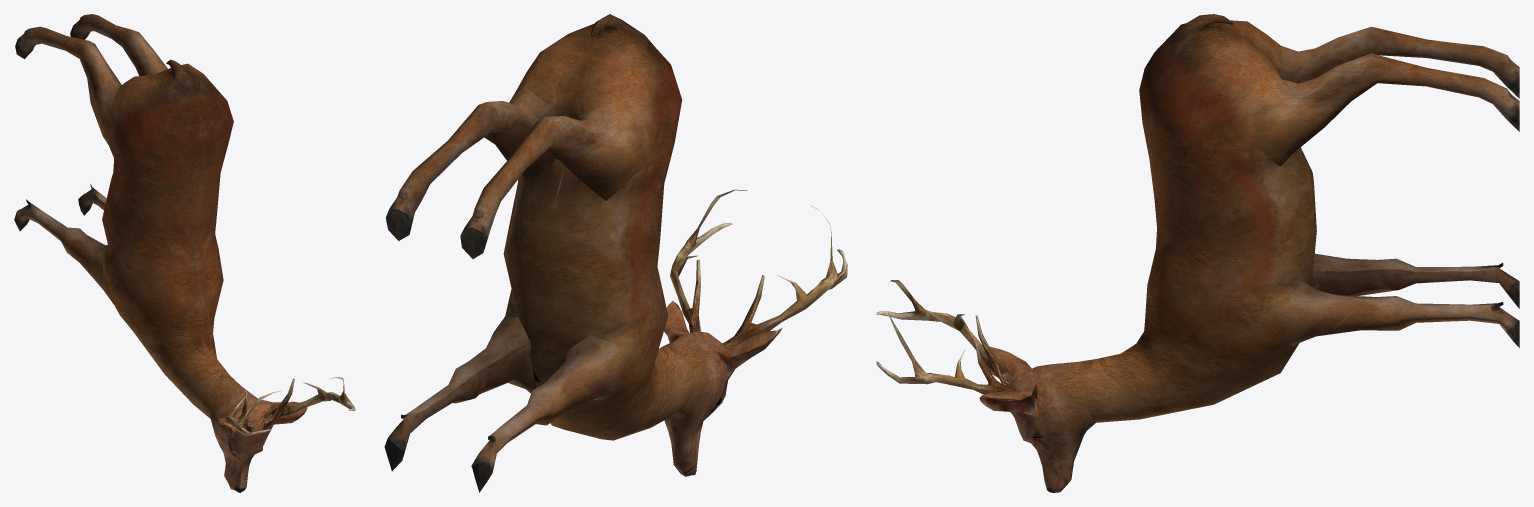
The model's file is deer.obj.
3 views of the same model, side by side, from view 1: azimuth 30°, elevation 25°; view 2: azimuth 150°, elevation 25°; view 3: azimuth 270°, elevation 25° (orthographic). The views are drawn at different scales.
Visible parts, largest first — view 1: _000_Deer, _001_Deer; view 2: _000_Deer, _001_Deer; view 3: _000_Deer, _001_Deer.
Boxes of the visible parts, x1,y1,x2,y2 form: _000_Deer: (14, 14, 307, 492); _001_Deer: (225, 377, 355, 436); _000_Deer: (384, 14, 781, 492); _001_Deer: (670, 189, 847, 347); _000_Deer: (979, 14, 1519, 492); _001_Deer: (876, 280, 1014, 394).
Bounding box in the file's own units: 1.01 × 3.36 × 4.1.
